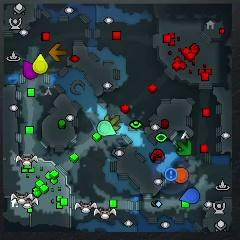Other: (165, 168, 177, 181)
p1: (180, 187, 200, 203)
p2: (97, 120, 116, 137)
p3: (21, 60, 39, 79)
p4: (33, 53, 48, 75)
p5: (173, 167, 188, 183)
x2: (104, 115, 120, 132)
x4: (176, 139, 193, 158)
x5: (48, 43, 68, 62)
